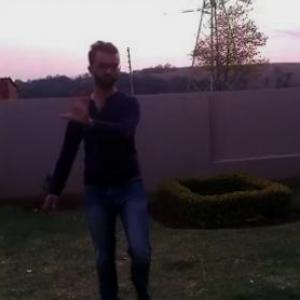follow_hand: (57, 82, 96, 125)
